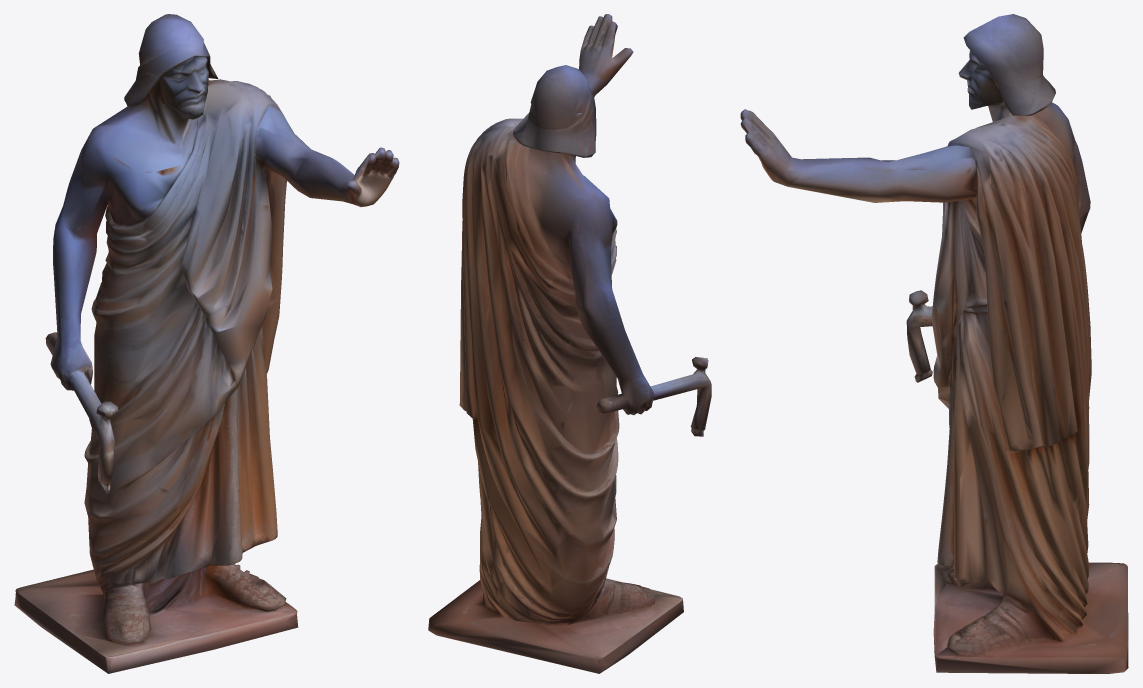
The model's file is behanzin_statut.opt.glb.
3 renders of one model, left to right at view 1: azimuth 30°, elevation 25°; view 2: azimuth 150°, elevation 25°; view 3: azimuth 270°, elevation 25°, orthographic. The views are drawn at different scales.
Parts seen in each view (by area): view 1: node_0; view 2: node_0; view 3: node_0.
Part boxes in pixels (x1=…): node_0: x1=14, y1=14, x2=399, y2=673; node_0: x1=428, y1=14, x2=711, y2=673; node_0: x1=740, y1=14, x2=1128, y2=673.
Size of the model in its own units: 0.3912 by 1 by 0.5746.
1 material, 1 textured.
